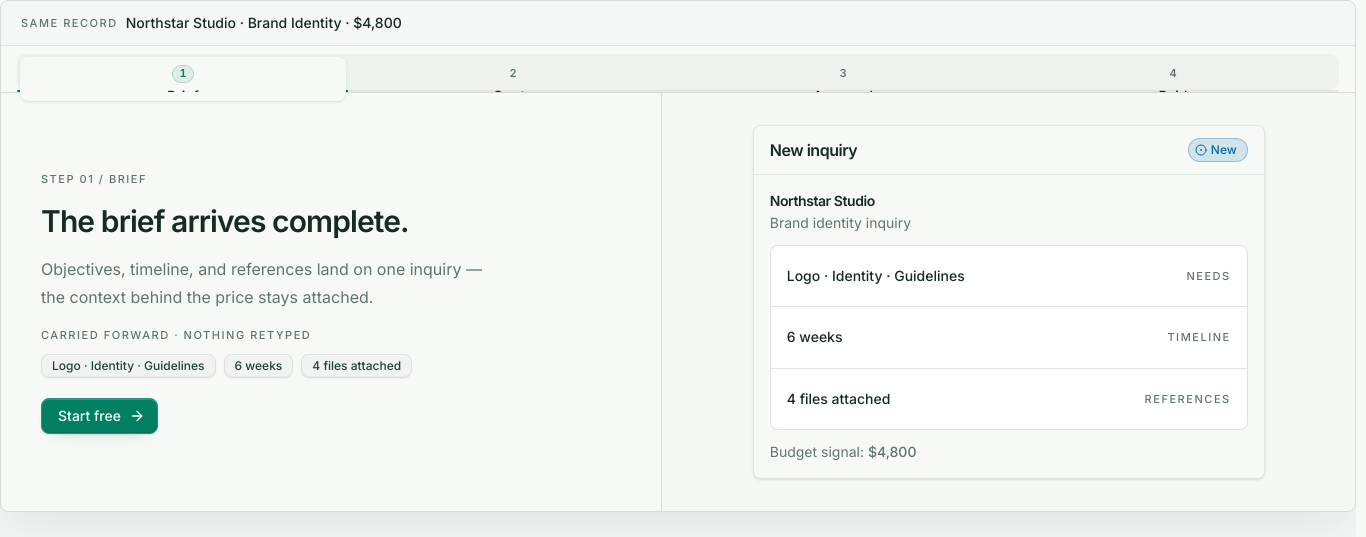
it: SolutionDemo journey › renders industry-specific stages (approval instead of follow-up)
Expected: the text "Northstar Studio · Brand Identity · $4,800" is shown, [126,13,402,33]
Click the tab "3 Approval". click: (843,79)
box: [680,57,1006,101]
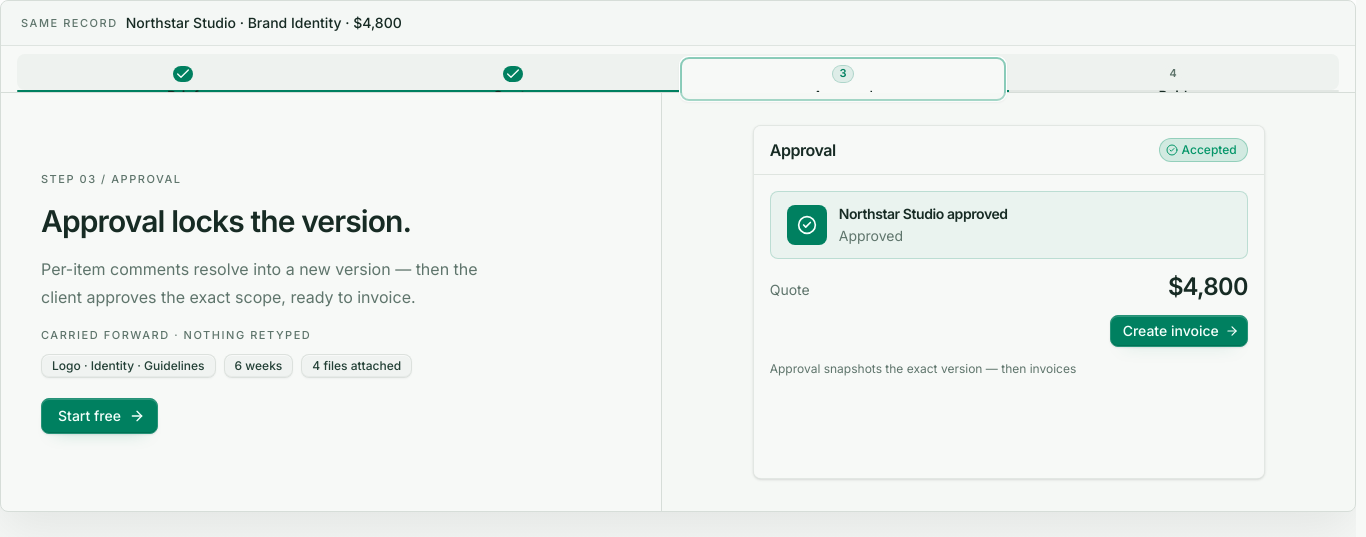
Expected: the text "Northstar Studio · Brand Identity · $4,800" is shown, [126,13,402,33]
Expected: the heading "Approval locks the version." is shown, [41,203,411,239]
